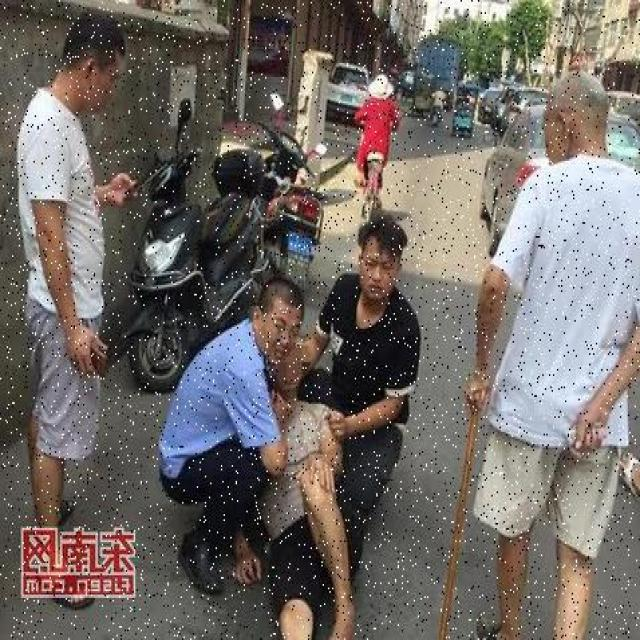fall: (268, 357, 355, 638)
